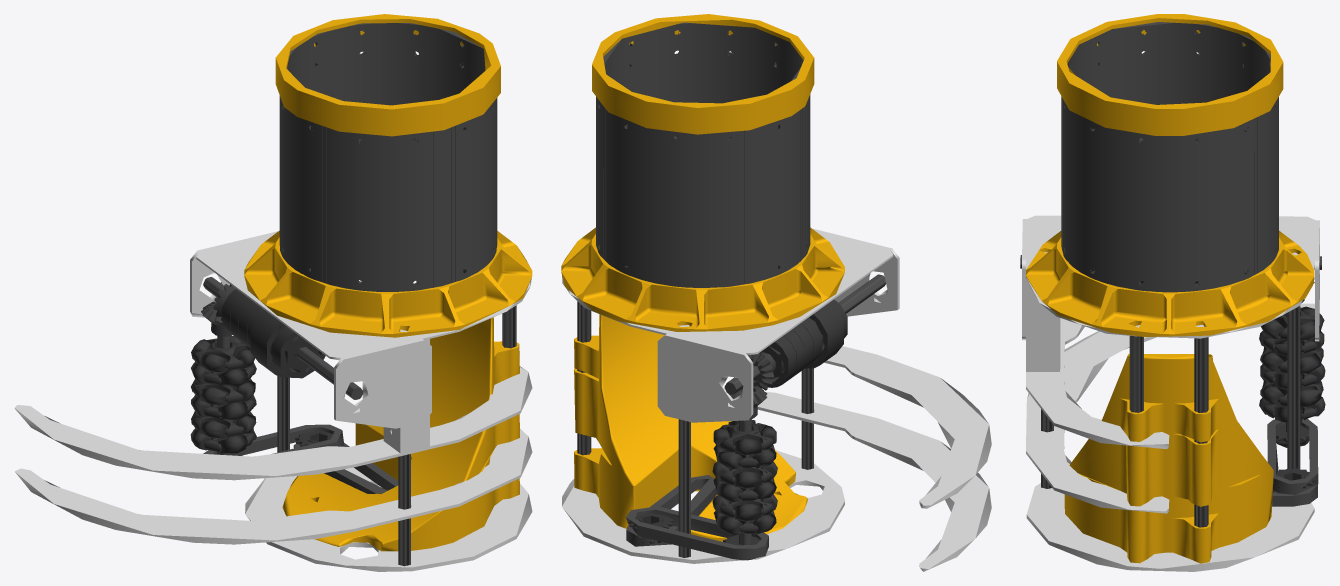
The model's file is 604-rotor.glb.
3 views of the same model, side by side, from view 1: azimuth 30°, elevation 25°; view 2: azimuth 150°, elevation 25°; view 3: azimuth 270°, elevation 25° (orthographic).
Parts seen in each view (by area): view 1: WCP Lightened Hex - Not Configured, L: 7p4375 in, Top Plate, Ramp Bottom, 16t Aluminum Double Sprocket (#25, 1/2" Hex Bore), 15t Steel Bevel Gear (12 DP, 3/8" Hex Bore); view 2: WCP Lightened Hex - Not Configured, L: 7p4375 in, Ramp Bottom, Top Plate, 16t Aluminum Double Sprocket (#25, 1/2" Hex Bore), 15t Steel Bevel Gear (12 DP, 3/8" Hex Bore); view 3: WCP Lightened Hex - Not Configured, L: 7p4375 in, Ramp Bottom, Top Plate, 16t Aluminum Double Sprocket (#25, 1/2" Hex Bore).
Boxes of the visible parts, x1,y1,x2,y2 form: WCP Lightened Hex - Not Configured, L: 7p4375 in: [203, 23, 516, 566]; Top Plate: [14, 231, 532, 571]; Ramp Bottom: [244, 14, 532, 551]; 16t Aluminum Double Sprocket (#25, 1/2" Hex Bore): [190, 289, 342, 455]; 15t Steel Bevel Gear (12 DP, 3/8" Hex Bore): [201, 284, 235, 336]; WCP Lightened Hex - Not Configured, L: 7p4375 in: [577, 22, 885, 560]; Ramp Bottom: [561, 14, 844, 541]; Top Plate: [562, 229, 991, 571]; 16t Aluminum Double Sprocket (#25, 1/2" Hex Bore): [627, 299, 847, 560]; 15t Steel Bevel Gear (12 DP, 3/8" Hex Bore): [729, 352, 775, 419]; WCP Lightened Hex - Not Configured, L: 7p4375 in: [1020, 22, 1321, 527]; Ramp Bottom: [1026, 14, 1314, 563]; Top Plate: [1022, 215, 1319, 571]; 16t Aluminum Double Sprocket (#25, 1/2" Hex Bore): [1140, 280, 1325, 496].
Bounding box in the file's own units: 0.3737 × 0.3715 × 0.2281.
